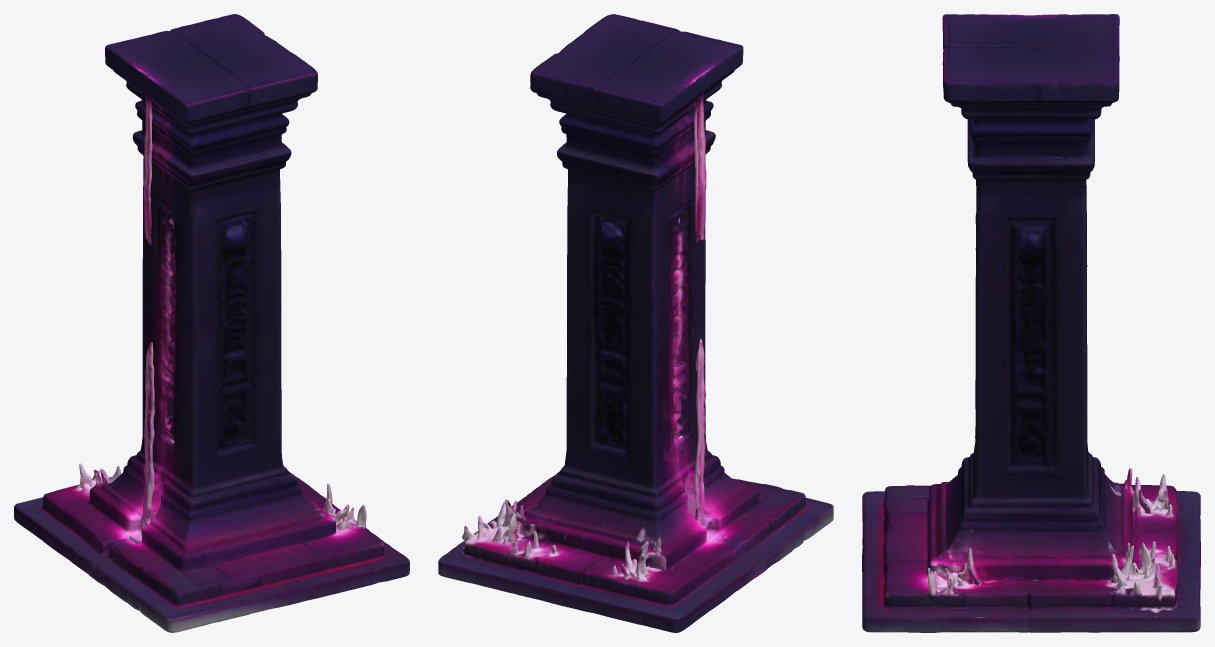
The model's file is weathered-monolith-pillar-generated-2026-04-19T23-36-30-619Z.low.glb.
The picture shows the model from 3 angles, left to right: view 1: azimuth 30°, elevation 25°; view 2: azimuth 150°, elevation 25°; view 3: azimuth 270°, elevation 25°; orthographic projection. The views are drawn at different scales.
Parts seen in each view (by area): view 1: temp_mesh.ply; view 2: temp_mesh.ply; view 3: temp_mesh.ply.
Part boxes in pixels (x1,y1,x2,y2): temp_mesh.ply: (14,14,409,632); temp_mesh.ply: (438,14,833,632); temp_mesh.ply: (862,14,1200,632).
Size of the model in its own units: 1.03 by 1.96 by 1.15.
Materials: 1 (1 with a texture image).
